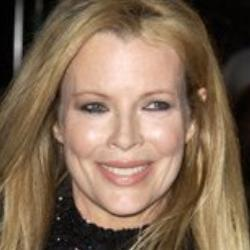face: (4, 4, 245, 238)
